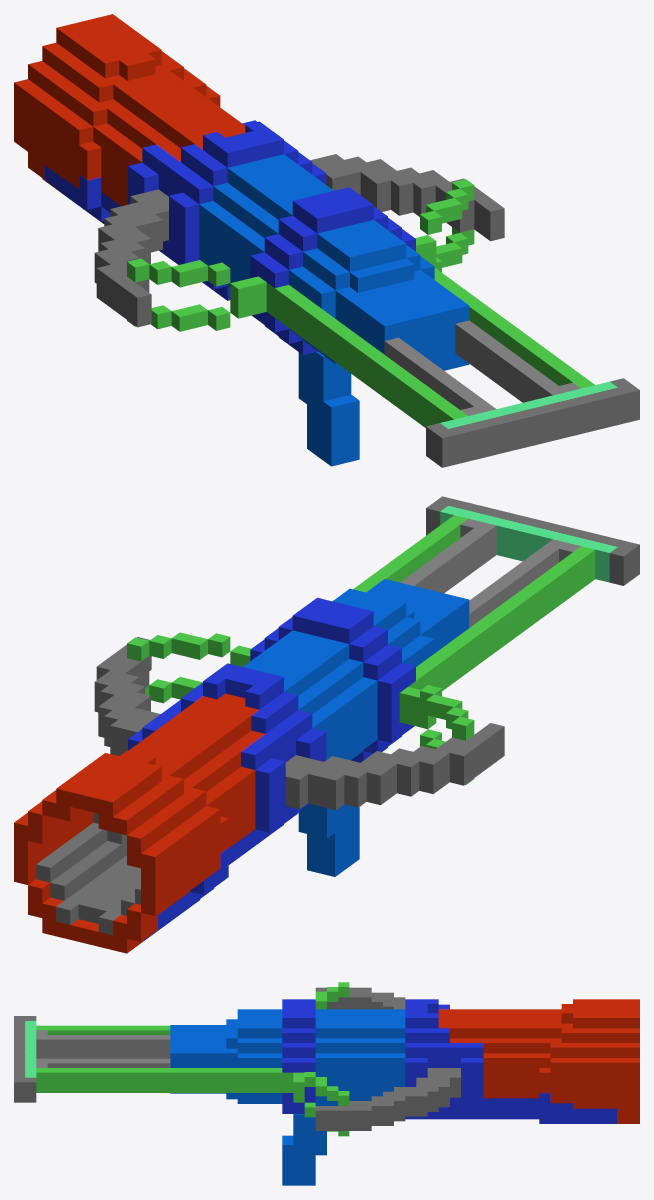
Rendered from aqua_force_crossbow_1.fbx.
3 views of the same model, one above another, from view 1: azimuth 30°, elevation 25°; view 2: azimuth 150°, elevation 25°; view 3: azimuth 270°, elevation 25° (orthographic). The views are drawn at different scales.
Visible parts, largest first — view 1: aqua_force_crossbow_1; view 2: aqua_force_crossbow_1; view 3: aqua_force_crossbow_1.
Boxes of the visible parts, <box> form: aqua_force_crossbow_1: <box>14,14,639,467</box>; aqua_force_crossbow_1: <box>14,496,639,953</box>; aqua_force_crossbow_1: <box>14,982,639,1185</box>.
Bounding box in the file's own units: 26 × 17 × 56.
